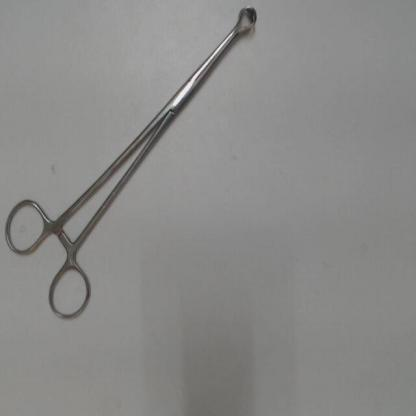8 Babcock Tissue Forceps: (0, 2, 262, 328)
